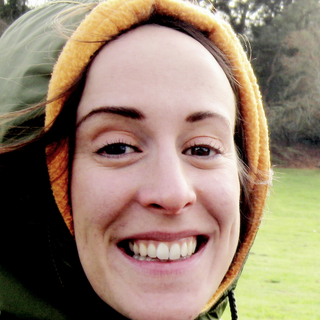eye: (83, 136, 147, 164), (177, 139, 225, 165)
